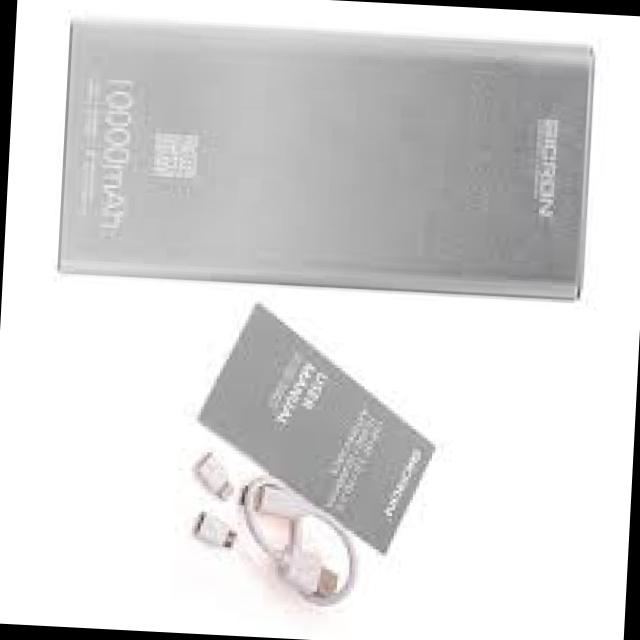power_bank: (50, 15, 596, 310)
